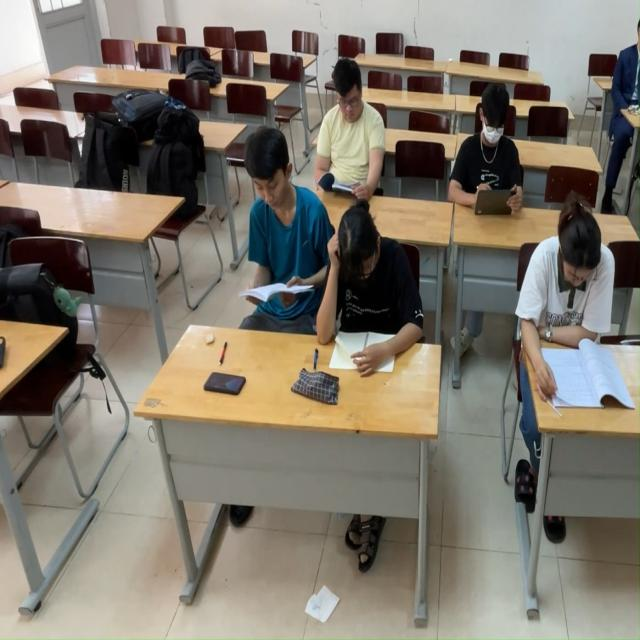read: (520, 217, 640, 419), (321, 203, 426, 389), (221, 133, 317, 329), (317, 49, 407, 203), (454, 77, 530, 214)
